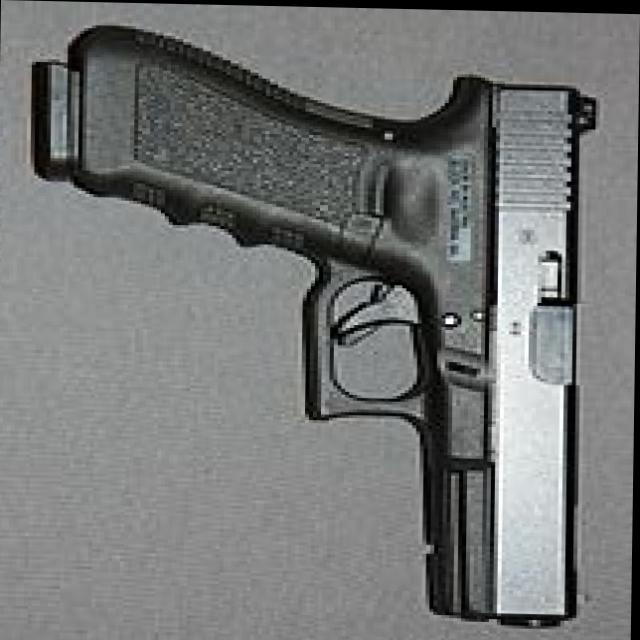handgun: (20, 23, 608, 640)
